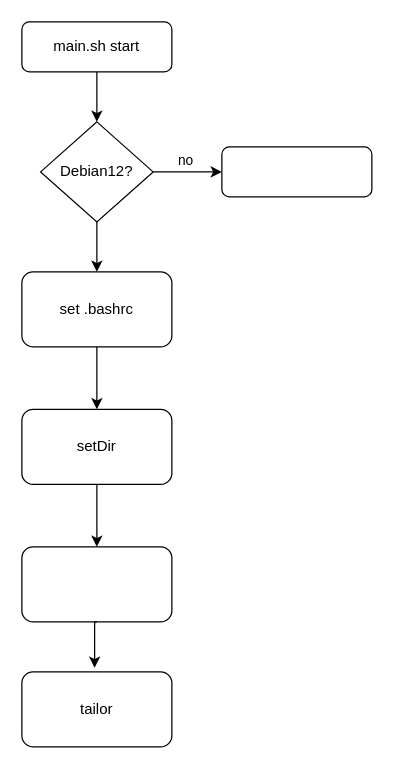
Some shapes in this 394 by 769 pixel diagram are drawn without their labels. The shapes that lost their labels are listed below. From the top down, each one's centre as x and y in pixels, then its label:
point (296, 171): exit 1
point (96, 584): changeMirror
